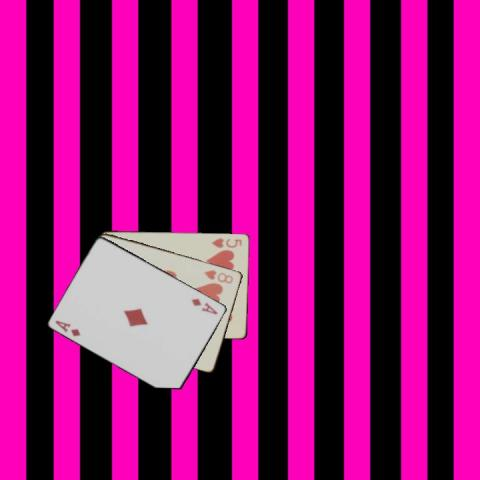5h: (208, 235, 243, 248)
8h: (201, 266, 235, 284)
Ad: (189, 295, 219, 316), (53, 317, 82, 338)
